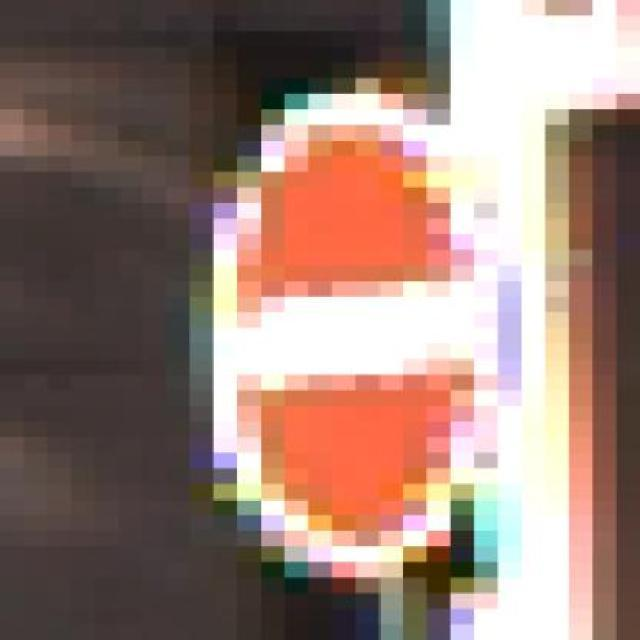B2: (209, 95, 485, 567)
